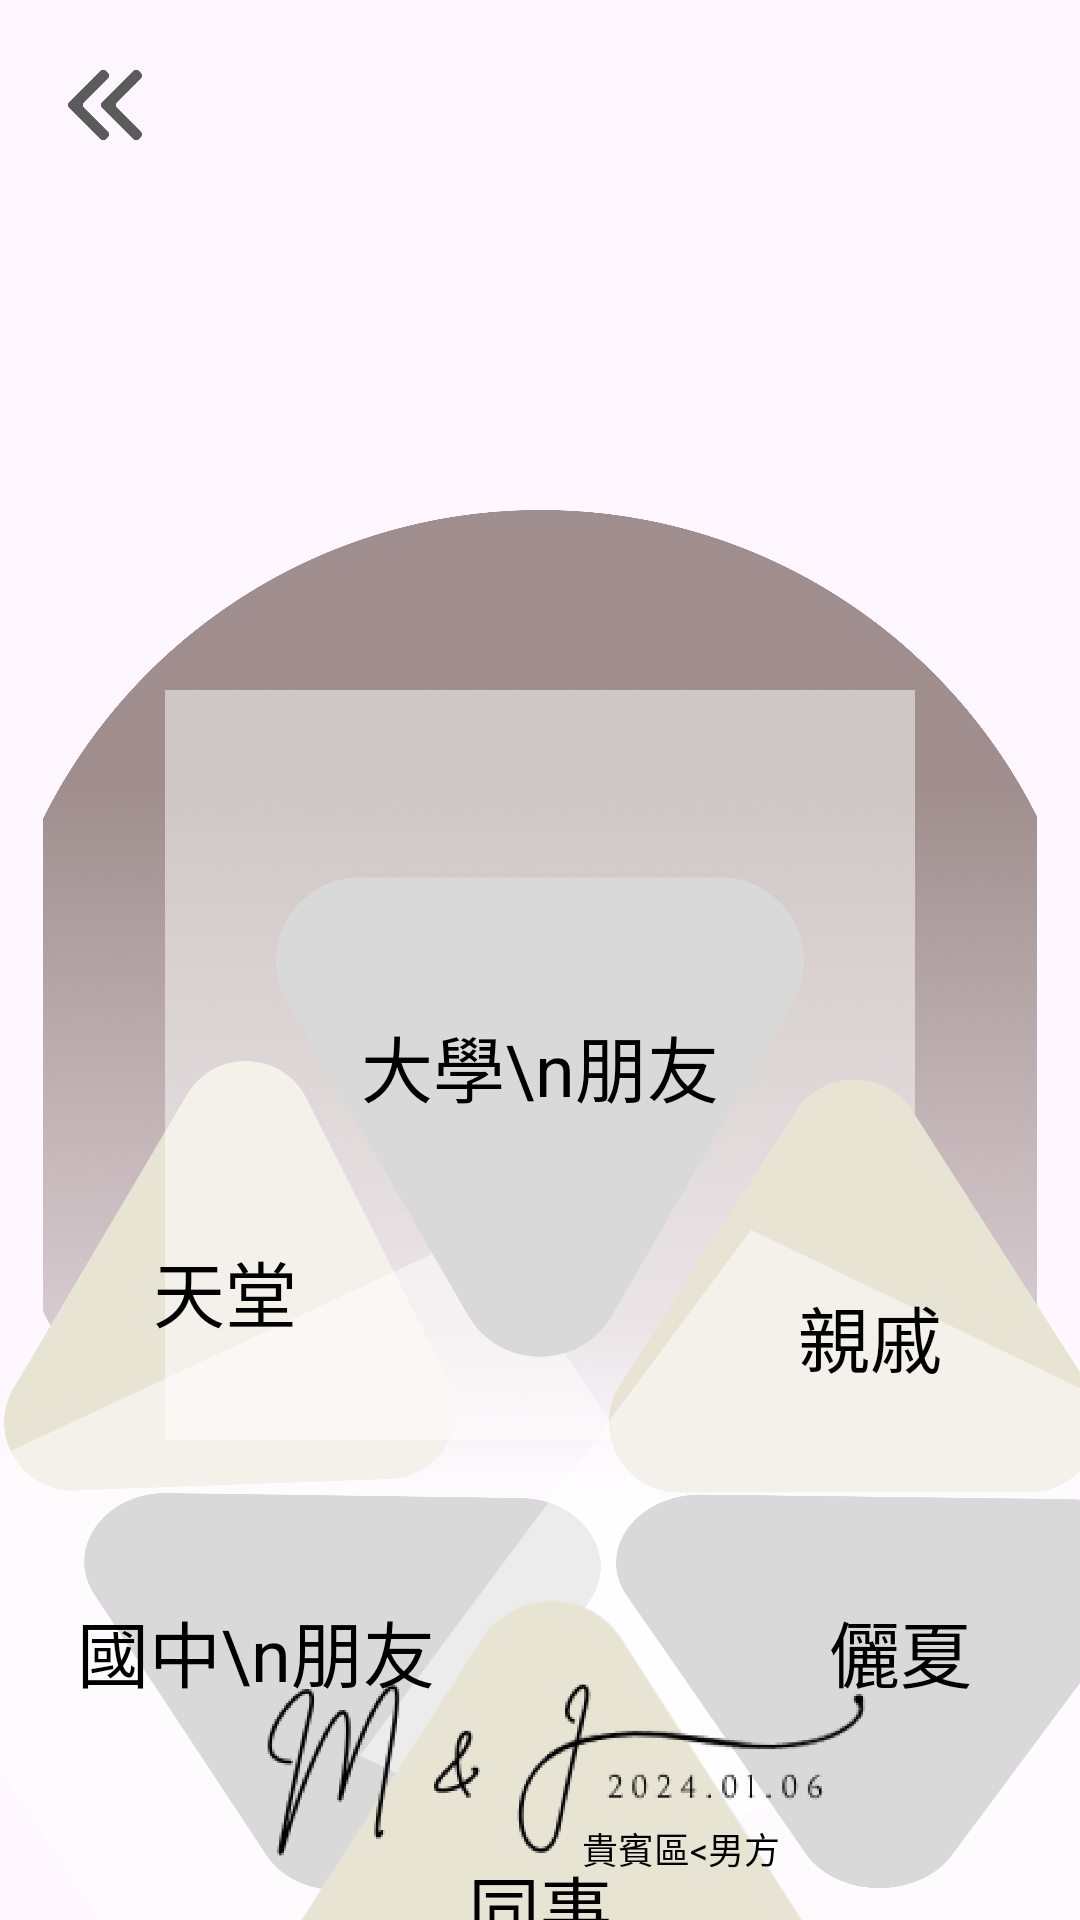

Named icons in this screenshot (1080*1920) and their centers, (x=x, y=y):
back: (x=105, y=105)
